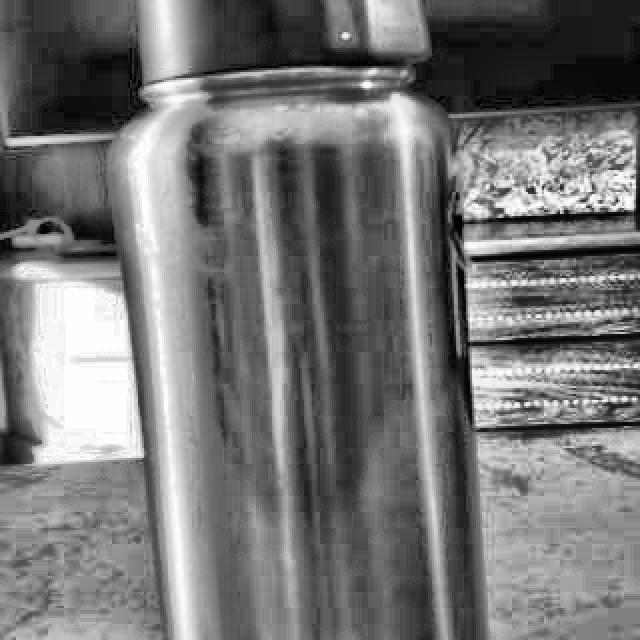bottle: (108, 0, 491, 640)
